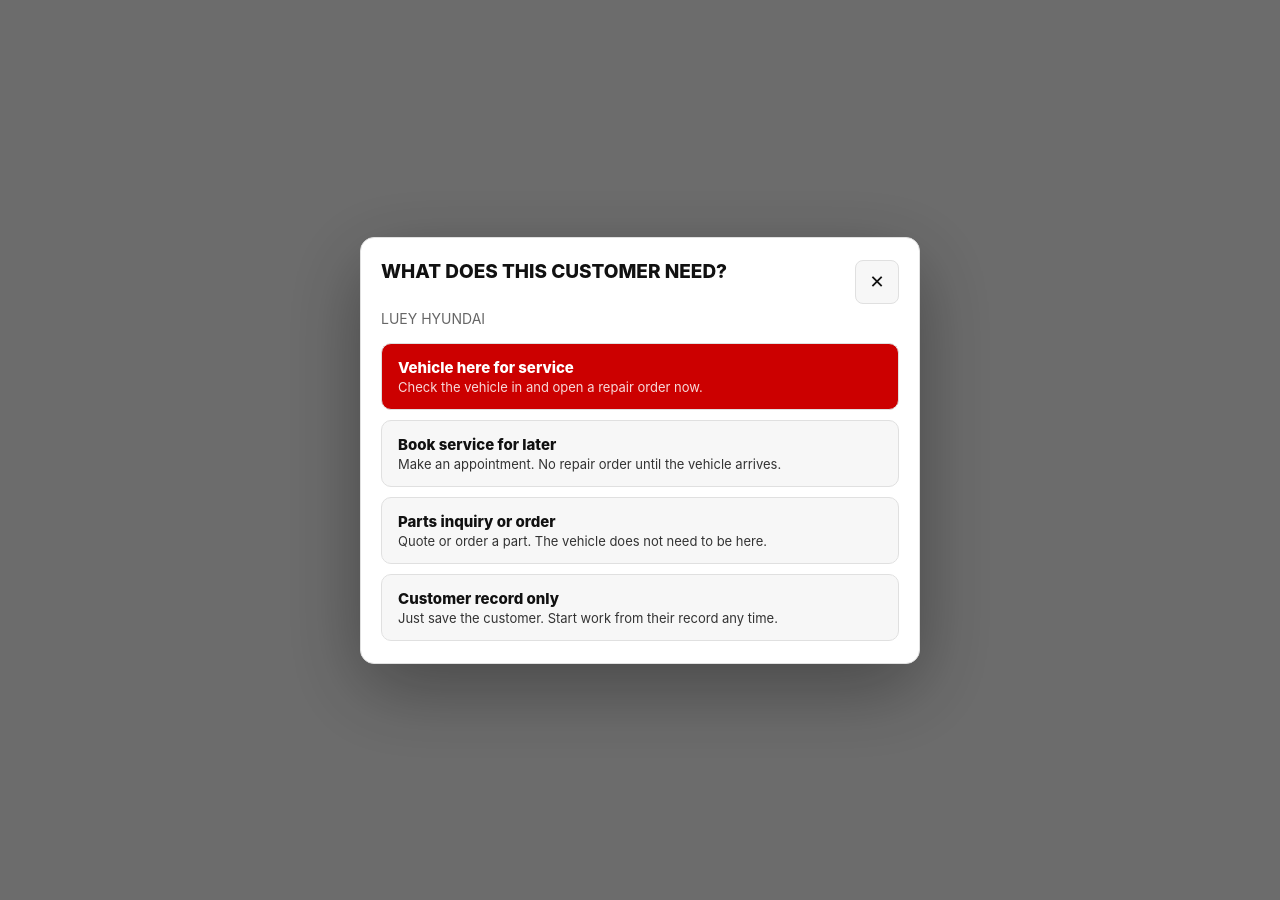
Test: a parts request goes through with no vehicle and opens no repair order
The image size is (1280, 900).
Click the text "Parts inquiry or order".
click(477, 521)  # box [398,512,556,530]
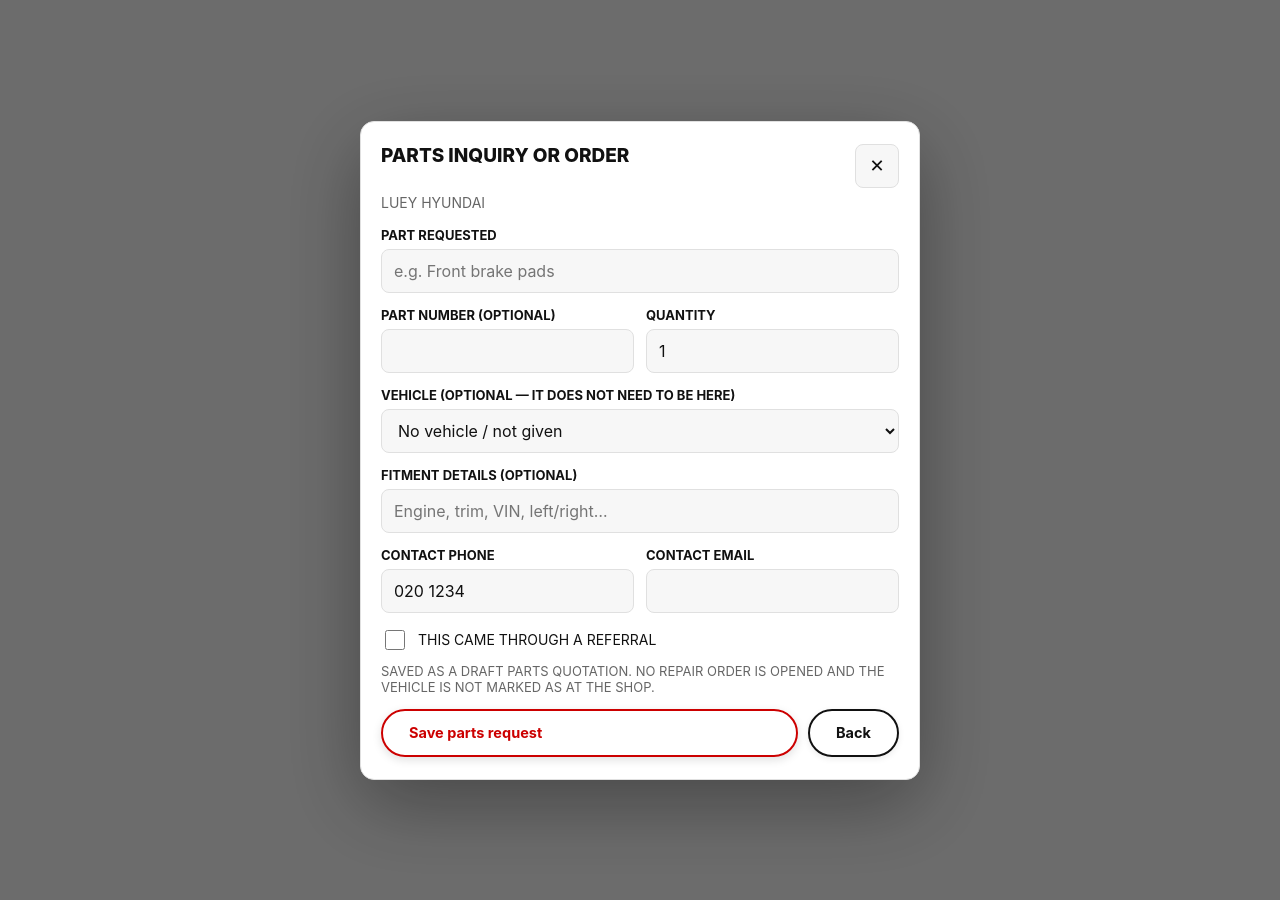
Type "Front brake pads" into the field labelled "Part requested".
click(640, 270); type("Front brake pads")  # box [381,248,899,292]
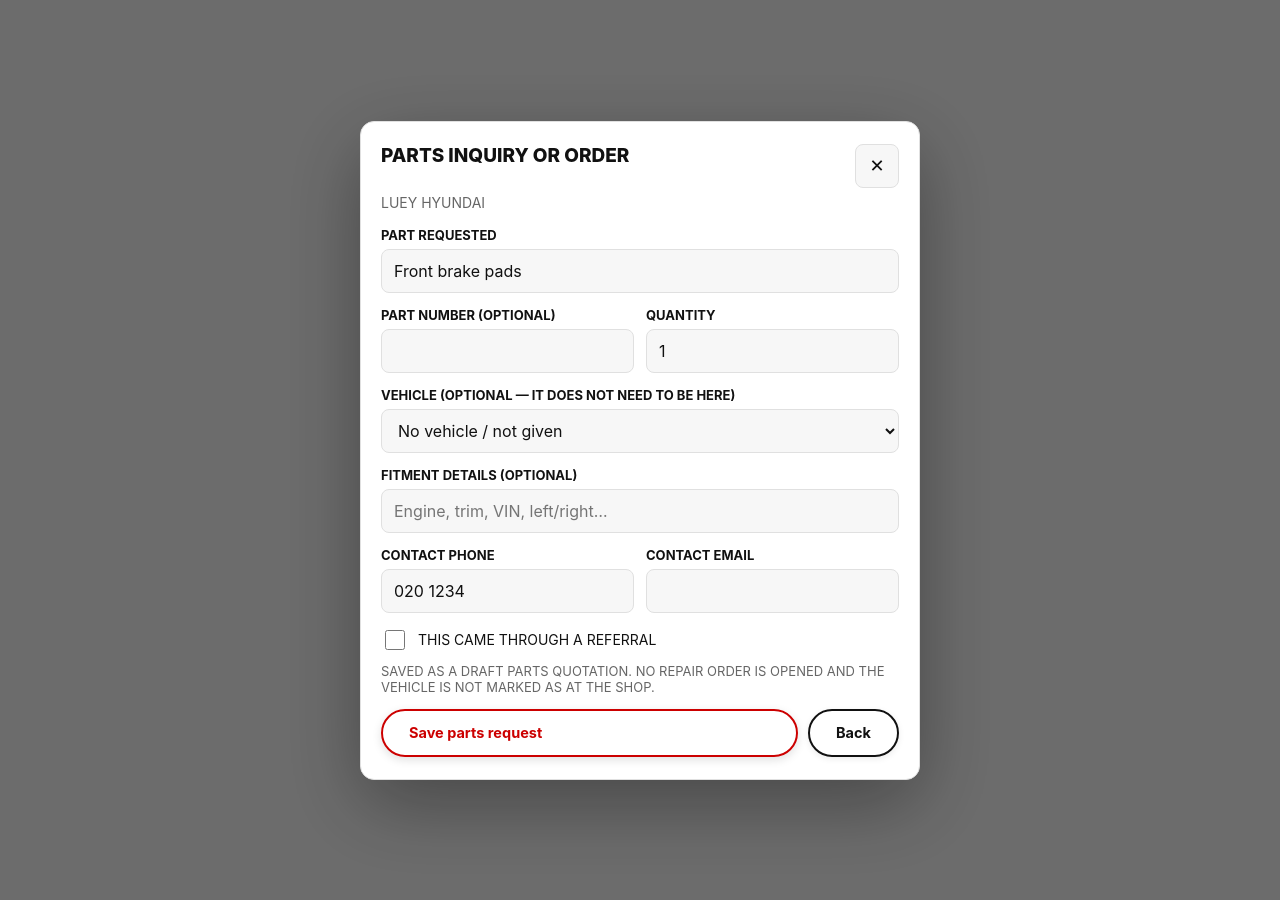
Click the checkbox labelled "This came through a referral".
click(395, 640)  # box [385,630,405,650]
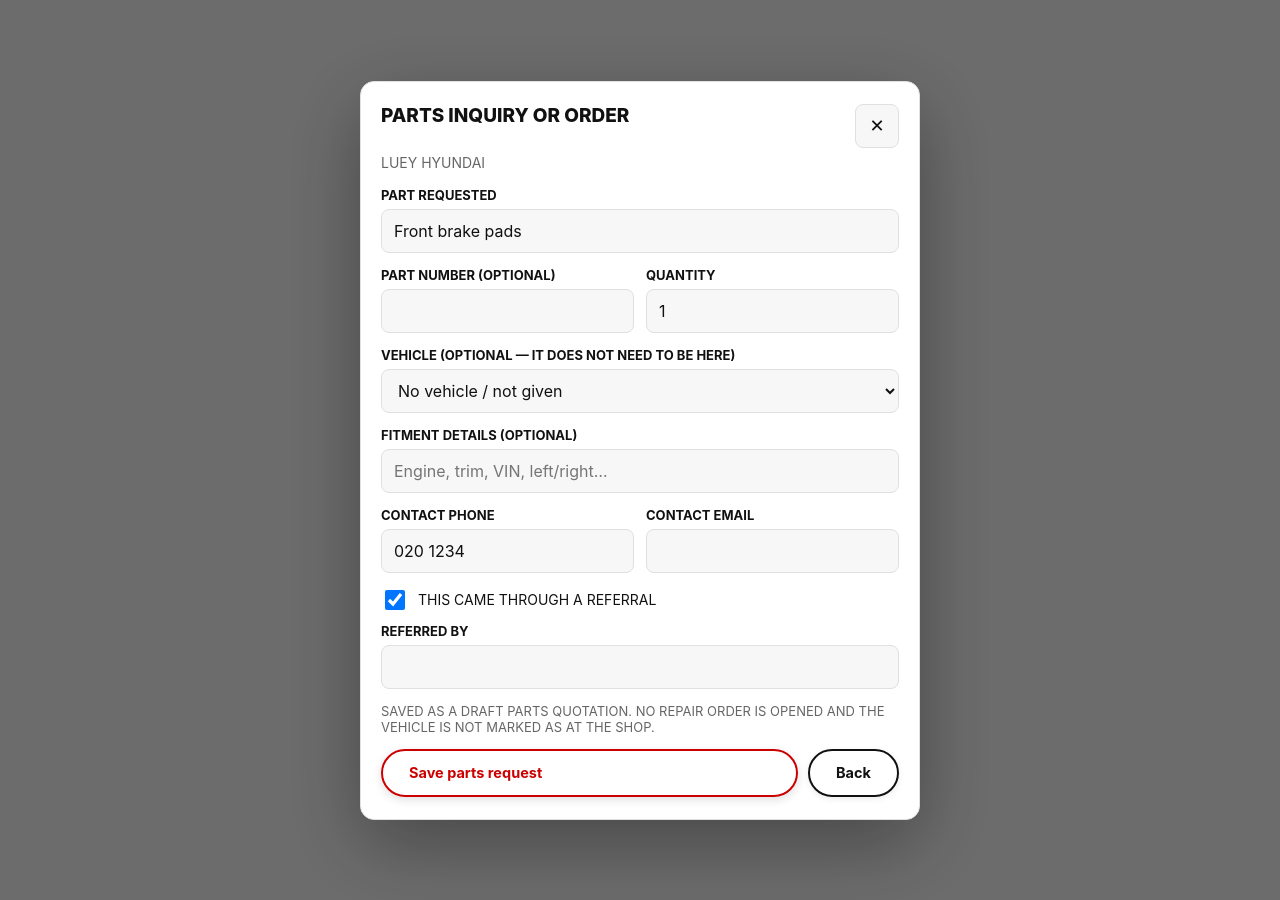
Type "Sam" into the field labelled "Referred by".
click(640, 666); type("Sam")  # box [381,644,899,688]
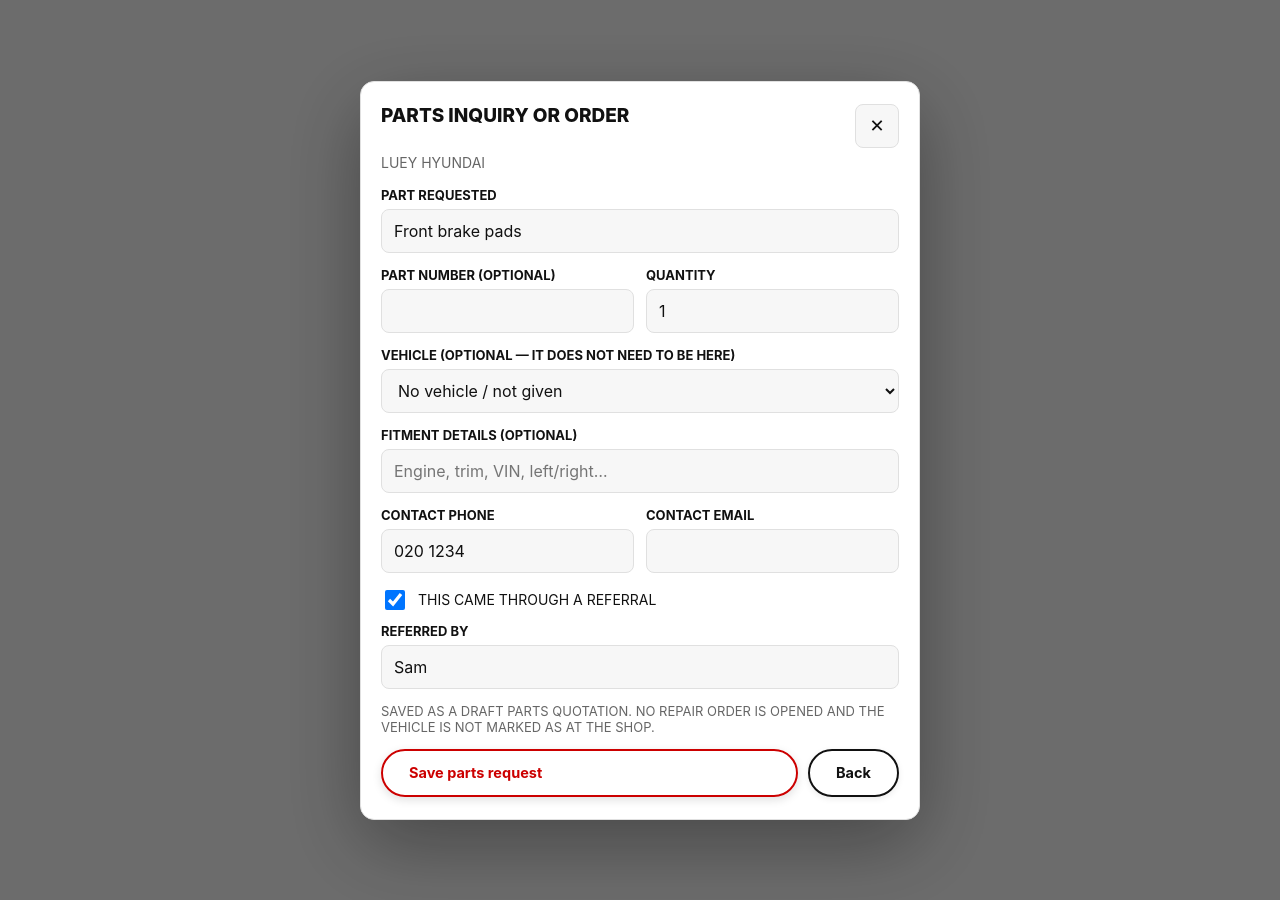
Click the button "Save parts request".
click(476, 772)  # box [381,748,798,796]
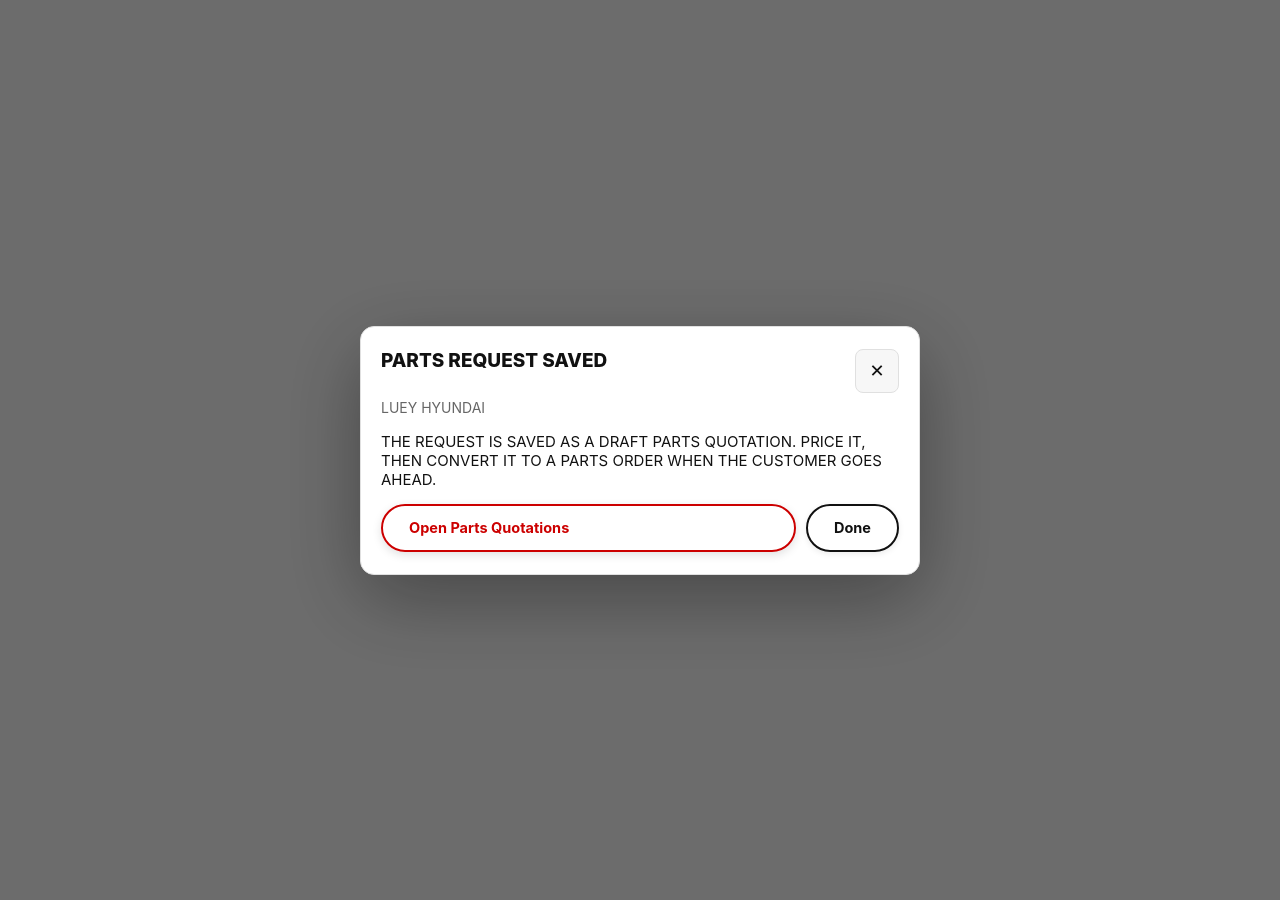
Now the button "Open Parts Quotations" is shown, box [381,504,796,552]
